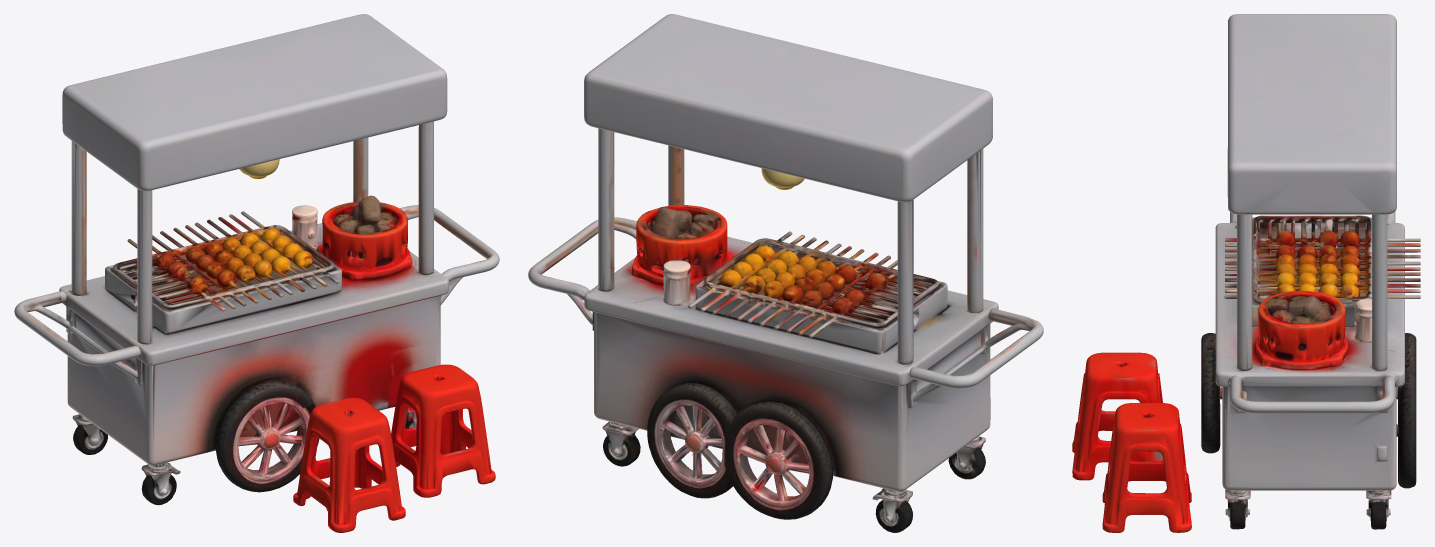
The model's file is shaokaoche.glb.
3 renders of one model, left to right at view 1: azimuth 30°, elevation 25°; view 2: azimuth 150°, elevation 25°; view 3: azimuth 270°, elevation 25°, orthographic. The views are drawn at different scales.
Visible parts, largest first — view 1: node_0; view 2: node_0; view 3: node_0.
Boxes of the visible parts, left/top/right/bottom form: node_0: left=14, top=14, right=499, bottom=532; node_0: left=528, top=14, right=1043, bottom=532; node_0: left=1072, top=14, right=1420, bottom=532.
Size of the model in its own units: 0.9706 by 0.8041 by 0.6734.
Materials: 1 (1 with a texture image).
